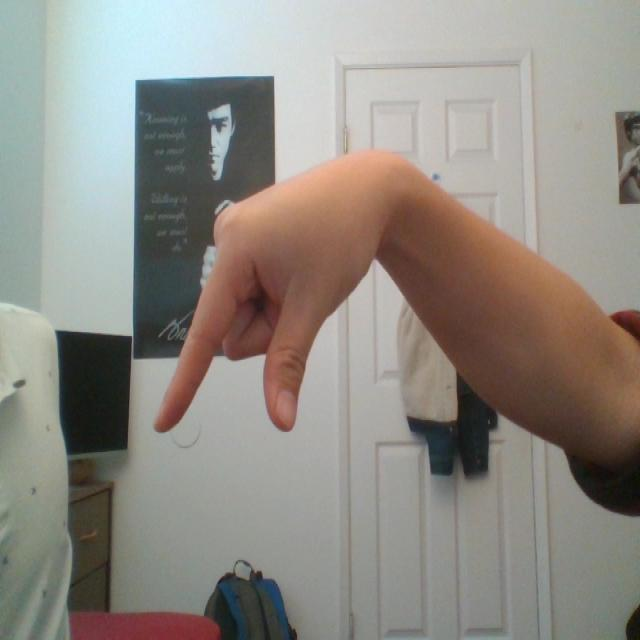Q: (134, 106, 469, 484)
